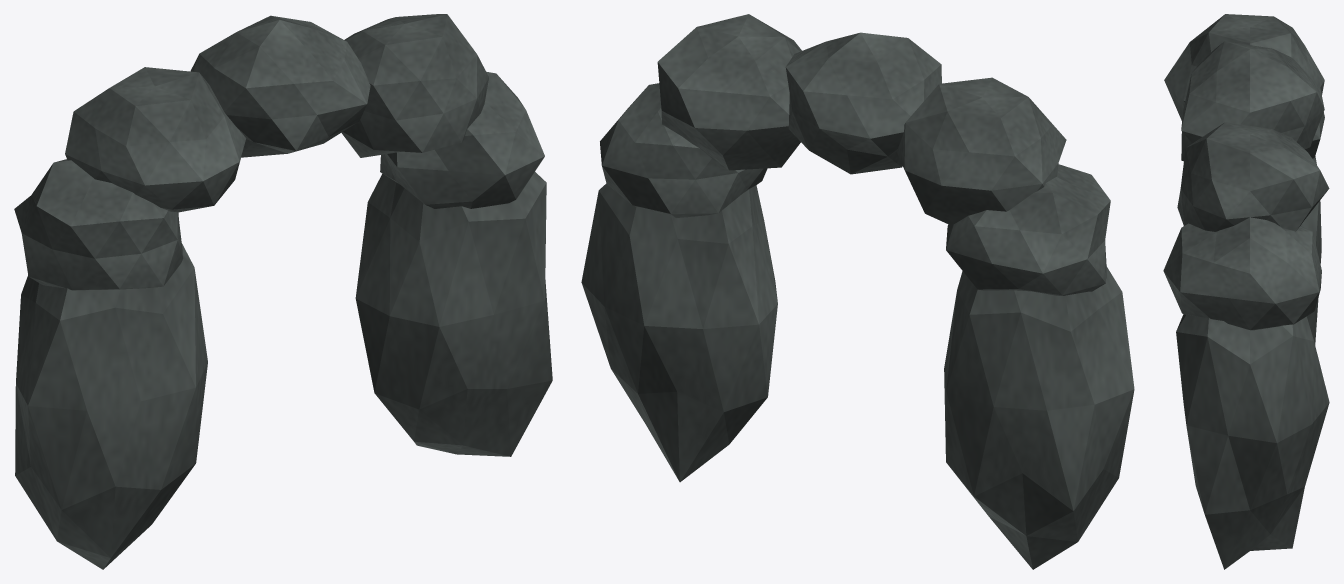
The model's file is sea_arch.glb.
The picture shows the model from 3 angles, left to right: view 1: azimuth 30°, elevation 25°; view 2: azimuth 150°, elevation 25°; view 3: azimuth 270°, elevation 25°; orthographic projection. The views are drawn at different scales.
Visible parts, largest first — view 1: ArchPier, ArchPier.001, ArchCrown.003, ArchCrown.002, ArchCrown.004, ArchCrown.001, ArchCrown; view 2: ArchPier, ArchPier.001, ArchCrown.003, ArchCrown.001, ArchCrown.002, ArchCrown.004, ArchCrown; view 3: ArchPier.001, ArchCrown, ArchCrown.001, ArchCrown.002, ArchCrown.003, ArchPier, ArchCrown.004.
Boxes of the visible parts, x1=… form: ArchPier: x1=15, y1=243, x2=207, y2=569; ArchPier.001: x1=355, y1=172, x2=552, y2=456; ArchCrown.003: x1=65, y1=67, x2=246, y2=212; ArchCrown.002: x1=190, y1=15, x2=370, y2=157; ArchCrown.004: x1=14, y1=159, x2=183, y2=290; ArchCrown.001: x1=341, y1=14, x2=488, y2=157; ArchCrown: x1=380, y1=71, x2=544, y2=208; ArchPier: x1=944, y1=266, x2=1134, y2=569; ArchPier.001: x1=581, y1=183, x2=777, y2=482; ArchCrown.003: x1=896, y1=77, x2=1066, y2=226; ArchCrown.001: x1=657, y1=14, x2=801, y2=170; ArchCrown.002: x1=785, y1=32, x2=941, y2=174; ArchCrown.004: x1=946, y1=164, x2=1110, y2=295; ArchCrown: x1=600, y1=83, x2=767, y2=217; ArchPier.001: x1=1176, y1=314, x2=1329, y2=569; ArchCrown: x1=1163, y1=217, x2=1321, y2=330; ArchCrown.001: x1=1177, y1=122, x2=1329, y2=231; ArchCrown.002: x1=1181, y1=41, x2=1324, y2=149; ArchCrown.003: x1=1164, y1=14, x2=1324, y2=120; ArchPier: x1=1300, y1=156, x2=1321, y2=344; ArchCrown.004: x1=1181, y1=112, x2=1324, y2=161.
Bounding box in the file's own units: 10.63 × 9.6 × 3.21.
Materials: 1 (1 with a texture image).
